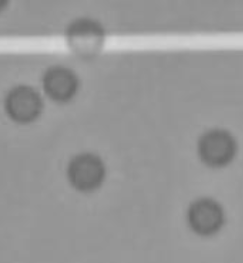cell: (61, 15, 110, 71), (193, 124, 240, 171), (61, 148, 109, 192), (184, 192, 228, 236), (39, 61, 83, 105), (3, 82, 45, 126)
